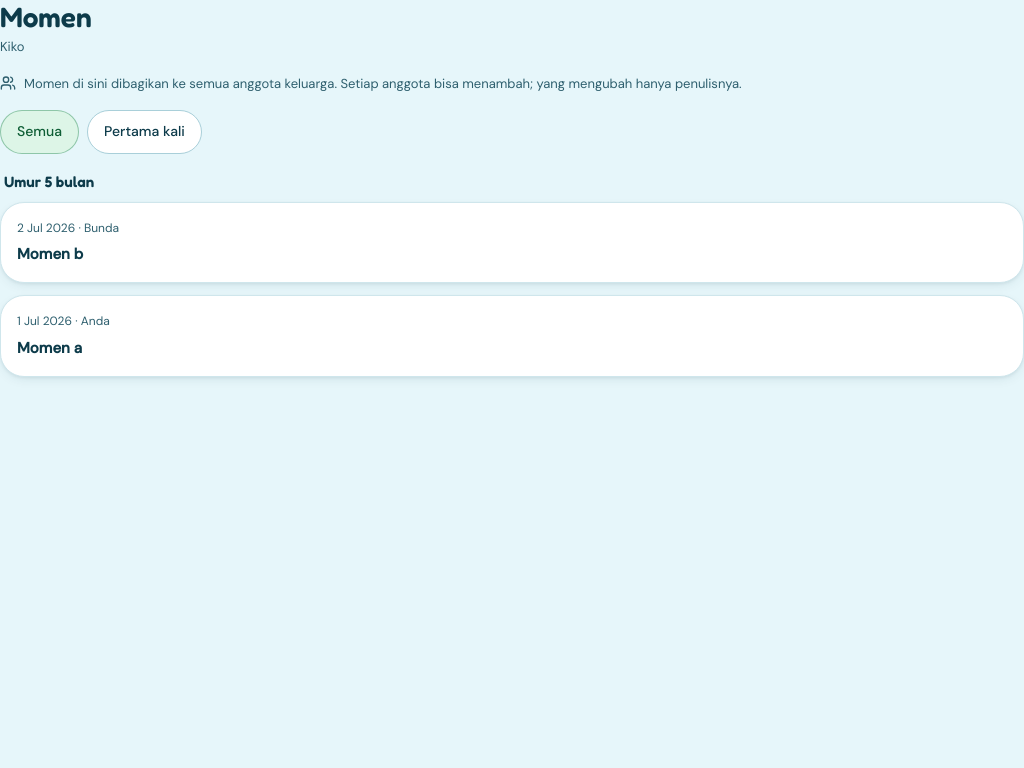
Test: MomenHalaman: detail, ubah, hapus › keluarga (J1–J6): anggota hanya mengubah dan menghapus milik sendiri; nama penulis tampil; konfirmasi menyebut anggota lain
Expected: the text "Momen di sini dibagikan ke semua anggota keluarga" is shown, [24,75,742,92]
What coordinates should you click on to do the following:
click the button with aria-label "Buka momen Momen b"
I would click on:
 (46, 228)
Its box is [0,202,1023,283].
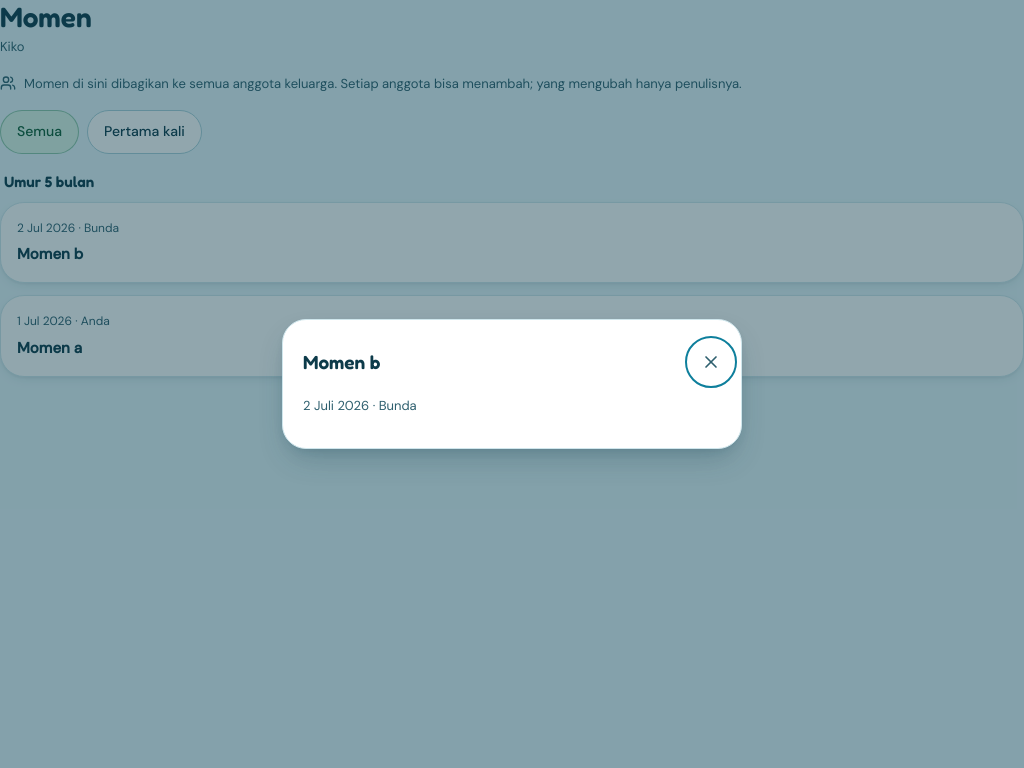
Expected: the button "Ubah momen" is not shown
Now the dialog shows "Bunda", box [379,397,417,414]
What coordinates should you click on to do the following:
click the button named "Tutup"
I would click on:
 (711, 362)
Its box is [689,340,733,384].
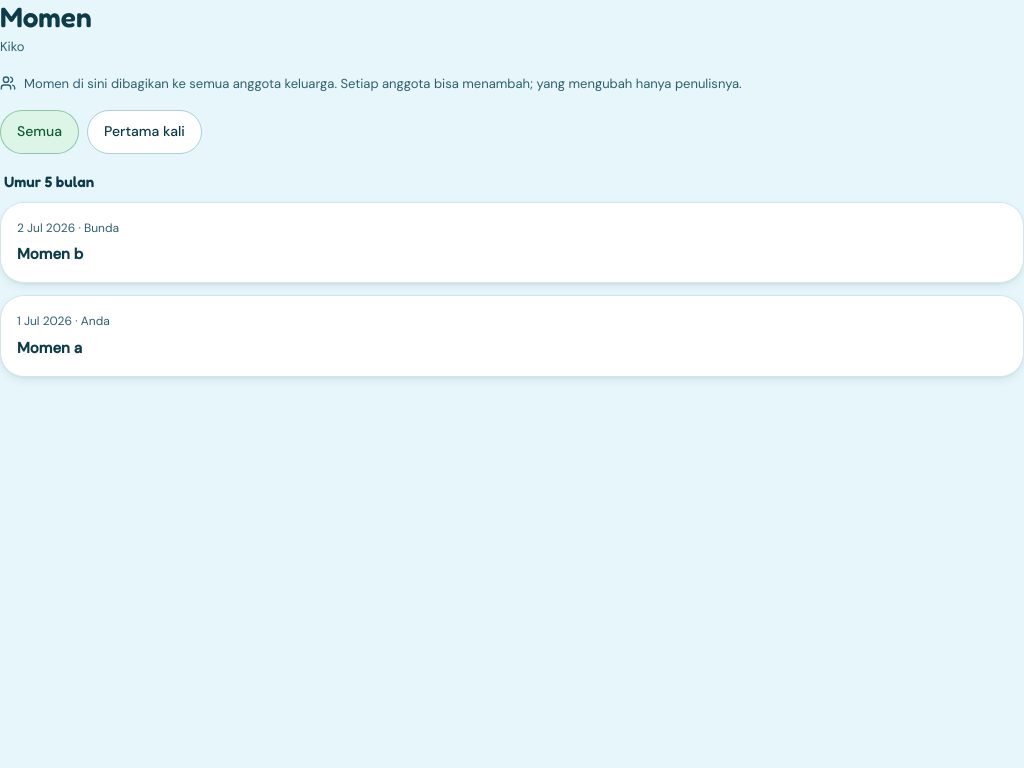
What coordinates should you click on to do the following:
click the button with aria-label "Buka momen Momen a"
I would click on:
 (45, 321)
Its box is [0,295,1023,377].
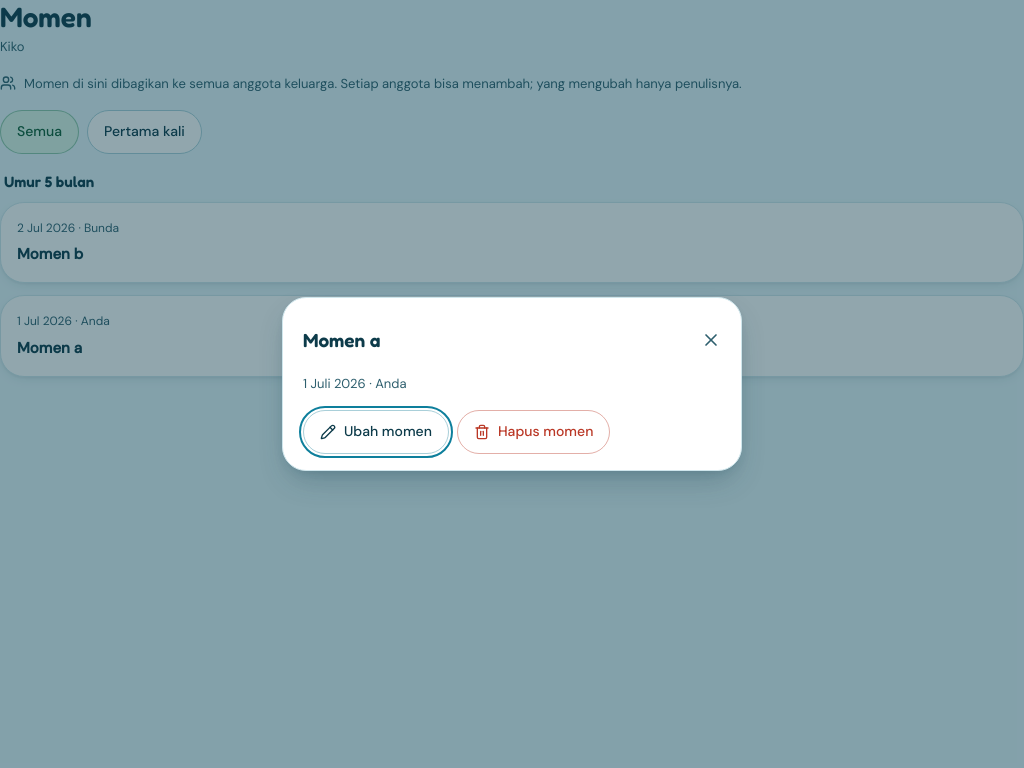
Now the button "Ubah momen" is shown, box [303,410,449,454]
What coordinates should you click on to do the following:
click the button "Hapus momen"
I would click on:
 (534, 432)
Its box is [457,410,610,454].
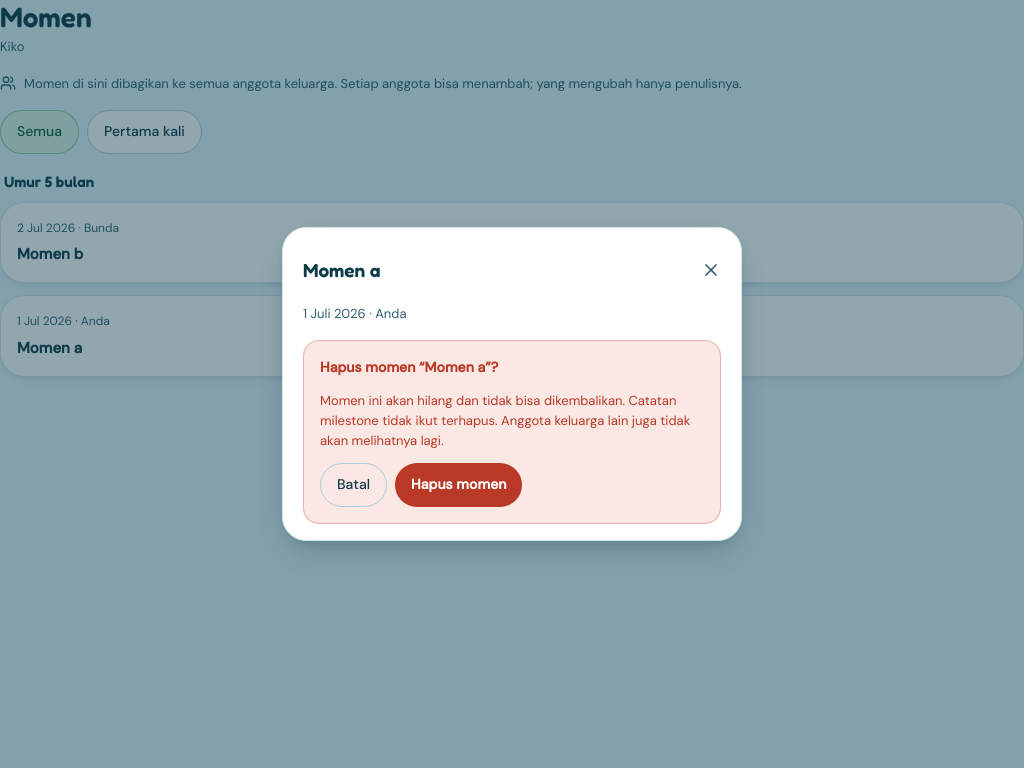
Now the dialog shows "Anggota keluarga lain juga tidak akan melihatnya lagi", box [320,412,690,449]
